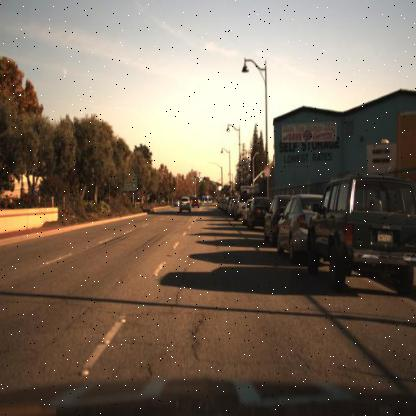car: (306, 173, 416, 291), (278, 191, 329, 261), (274, 192, 312, 272), (260, 185, 292, 247), (245, 193, 272, 234), (176, 193, 190, 213), (190, 193, 202, 211)
trafficLight-Green: (220, 186, 225, 198), (193, 173, 198, 184), (201, 174, 206, 185)
